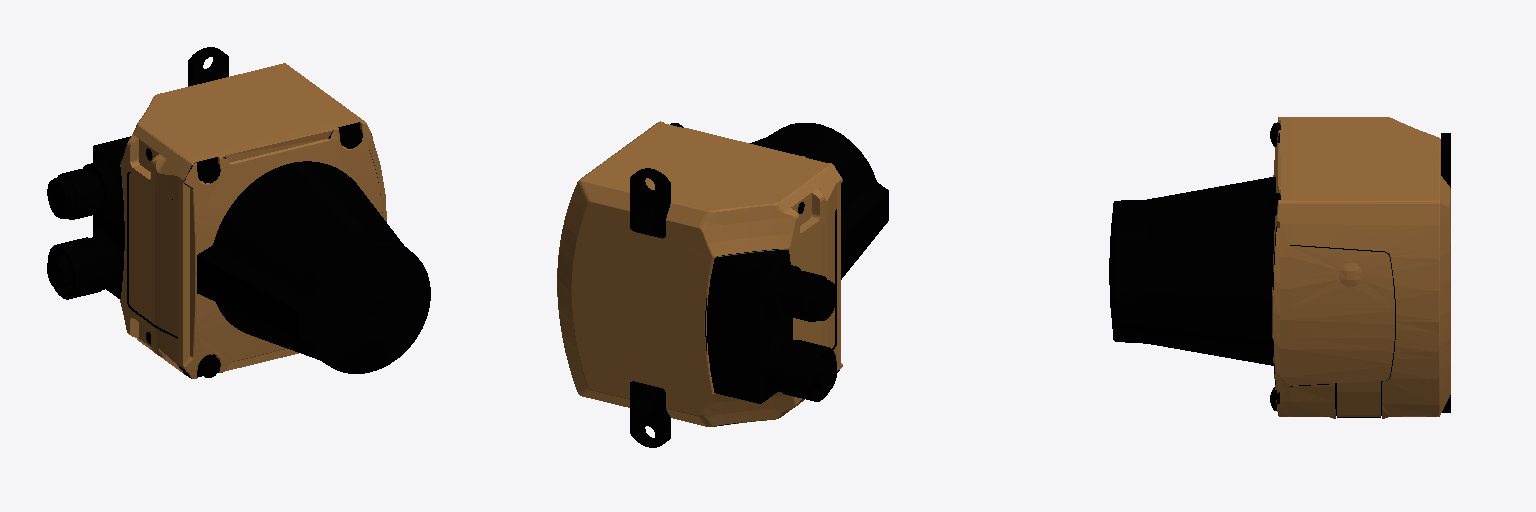
File: sick_tim.obj
3 views of the same model, side by side, from view 1: azimuth 30°, elevation 25°; view 2: azimuth 150°, elevation 25°; view 3: azimuth 270°, elevation 25° (orthographic).
Visible parts, largest first — view 1: sick_tim-mesh; view 2: sick_tim-mesh; view 3: sick_tim-mesh.
Part boxes in pixels (x1,y1,x2,y2): sick_tim-mesh: (47,47,430,378); sick_tim-mesh: (557,121,888,447); sick_tim-mesh: (1109,117,1450,418).
Bounding box in the file's own units: 0.0763 × 0.0762 × 0.0858.